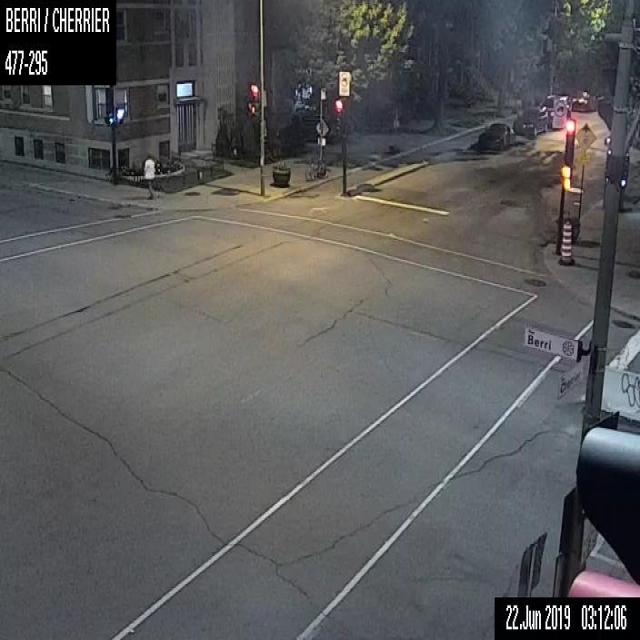construction: (561, 220, 571, 260)
pedestrian: (143, 153, 155, 199)
vehicle: (512, 105, 547, 136), (541, 93, 570, 128), (478, 122, 514, 149), (571, 90, 596, 112)
